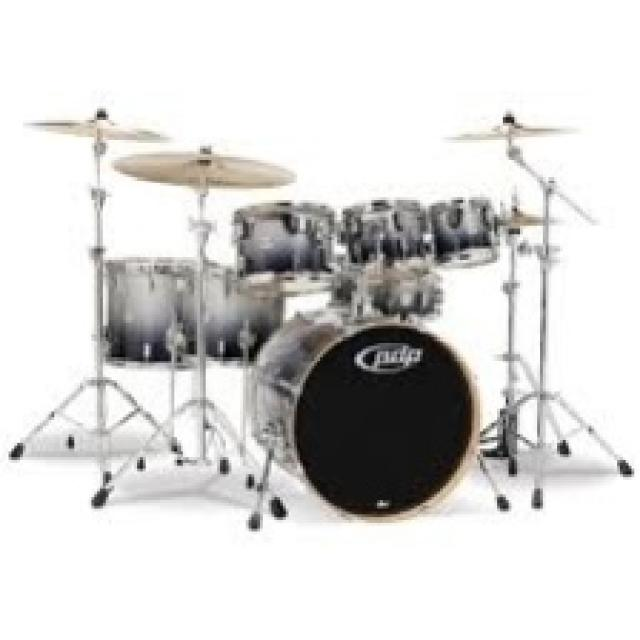drums: (4, 105, 640, 538)
